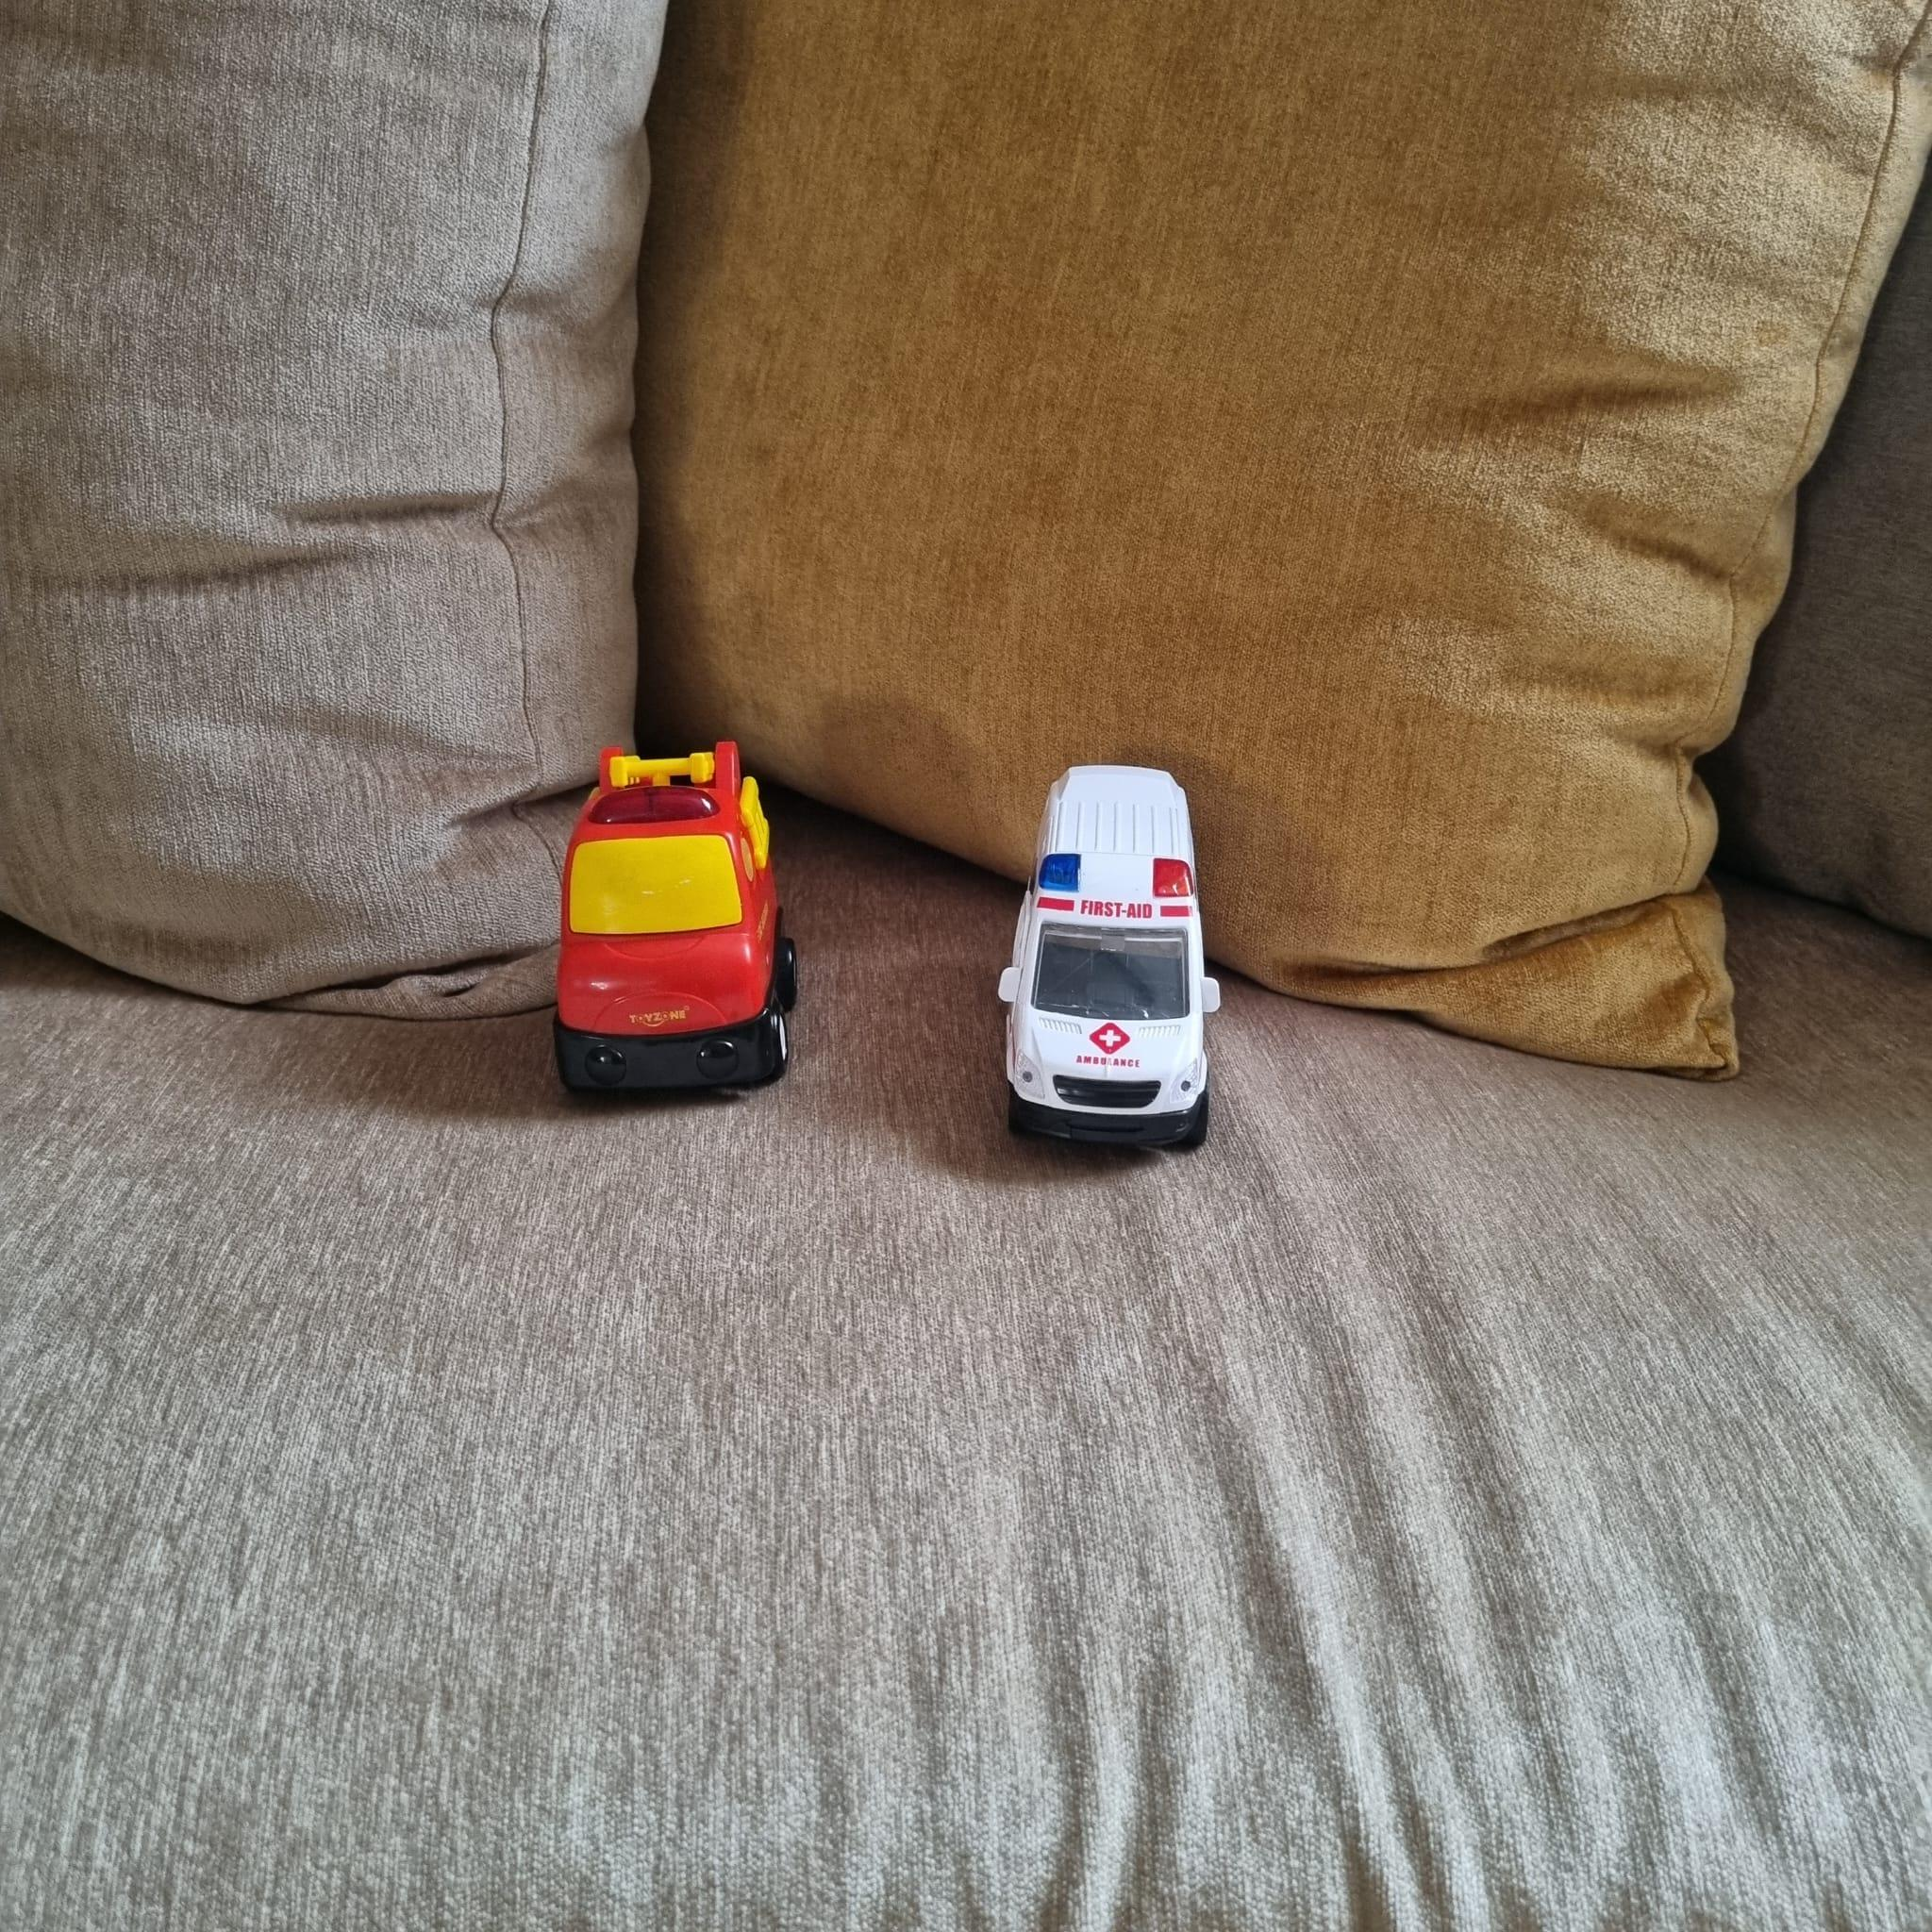ambulance_off: (996, 755, 1214, 1148)
firetruck_off: (547, 747, 807, 1100)
